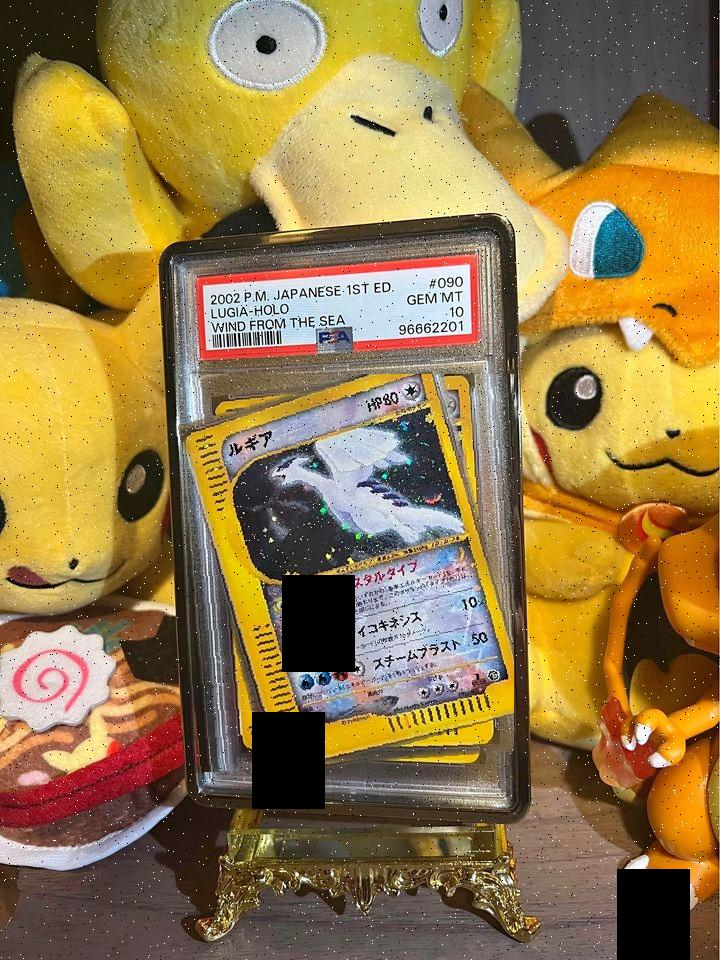card: (184, 374, 514, 767)
